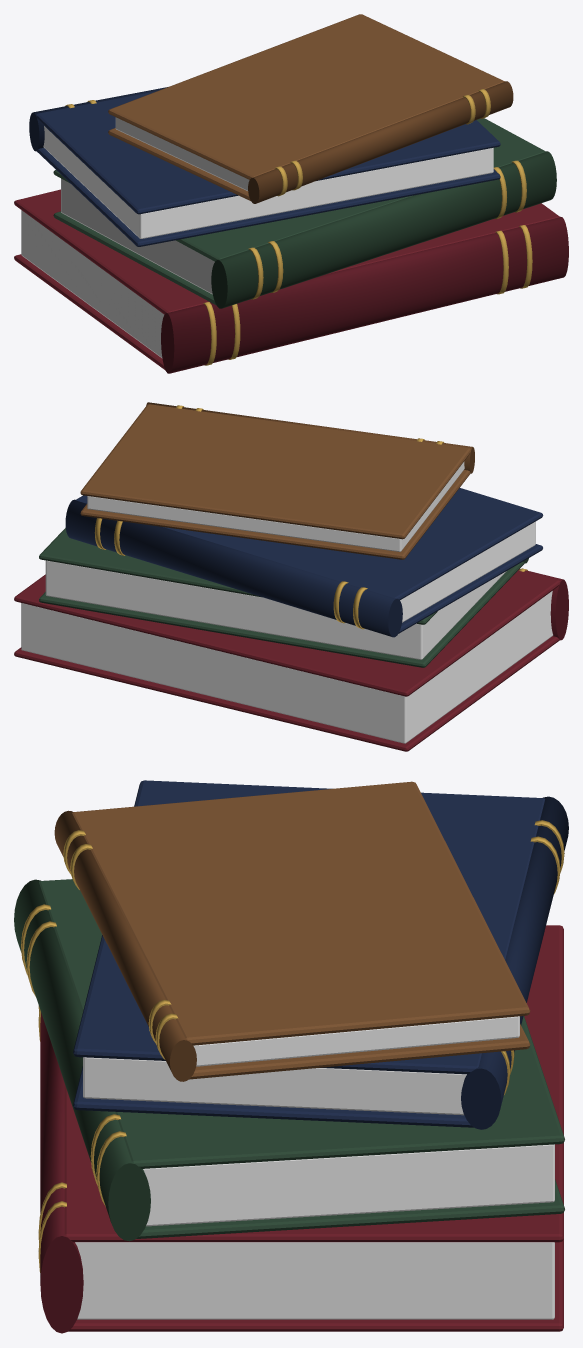
File: pile-de-livres.glb
3 views of the same model, one above another, from view 1: azimuth 30°, elevation 25°; view 2: azimuth 150°, elevation 25°; view 3: azimuth 270°, elevation 25° (orthographic). The views are drawn at different scales.
Parts seen in each view (by area): view 1: pile-de-livres; view 2: pile-de-livres; view 3: pile-de-livres.
Part boxes in pixels (box(x1,y1,x2,y2)): pile-de-livres: box(14, 14, 568, 373); pile-de-livres: box(14, 402, 568, 751); pile-de-livres: box(14, 780, 568, 1333).
Size of the model in its own units: 0.249 by 0.1015 by 0.1802.
